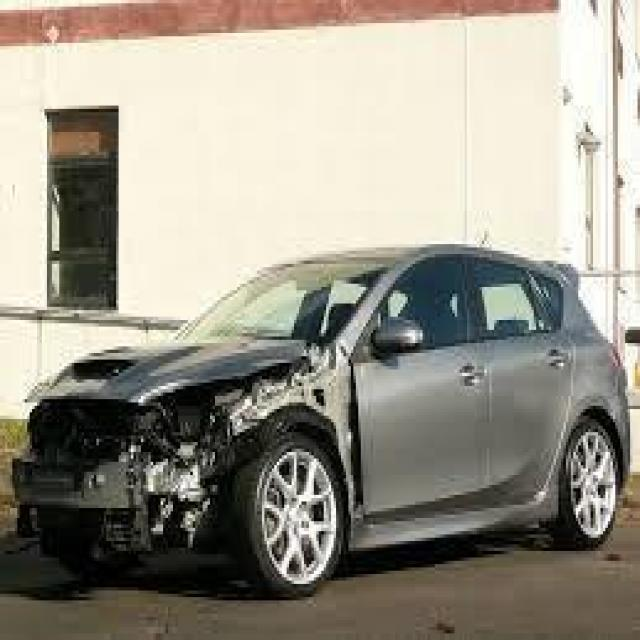damaged: (12, 380, 242, 554), (242, 343, 363, 498)
